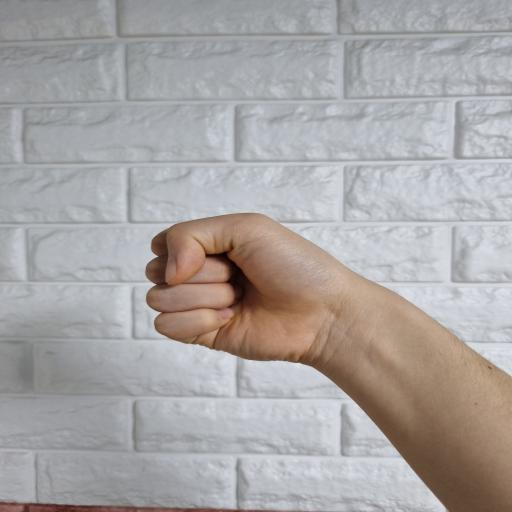Rock: (145, 213, 371, 364)
